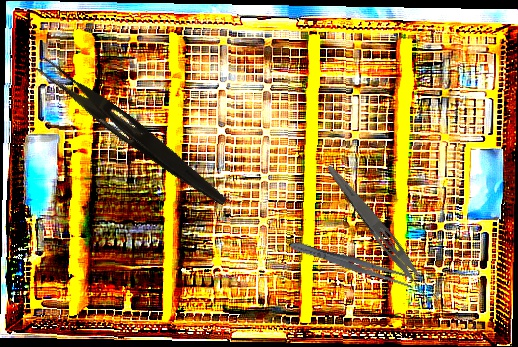Dressing Forceps: (30, 56, 235, 209), (319, 161, 444, 309), (287, 236, 415, 290)
